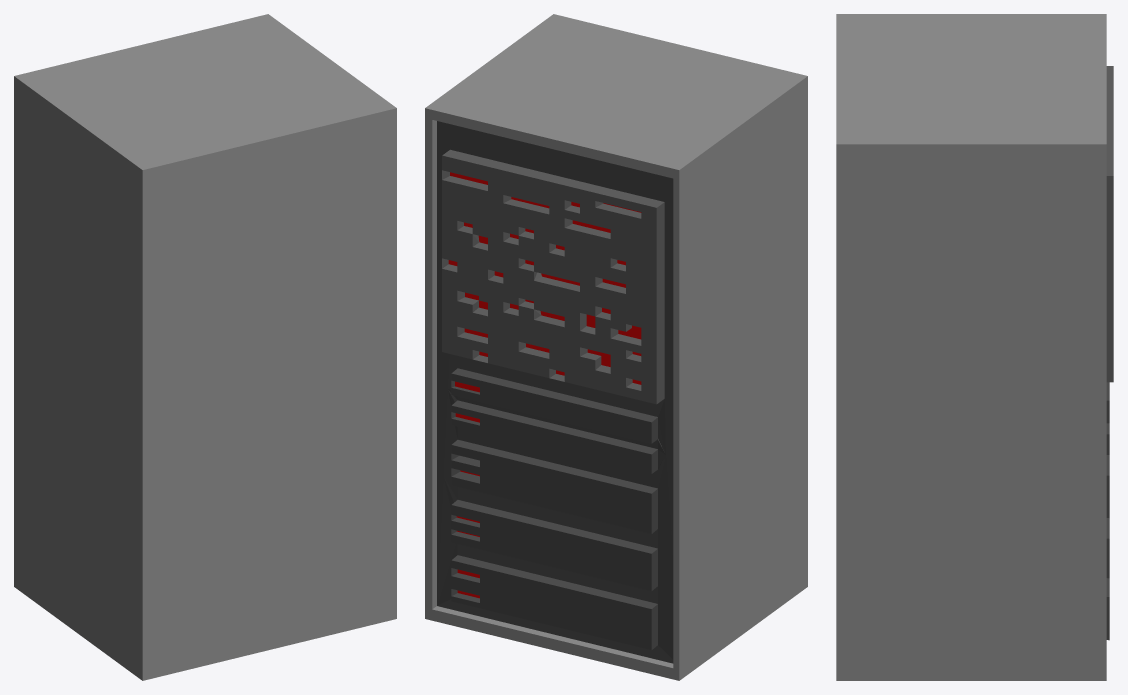
File: testSerw.fbx
The picture shows the model from 3 angles, left to right: view 1: azimuth 30°, elevation 25°; view 2: azimuth 150°, elevation 25°; view 3: azimuth 270°, elevation 25°; orthographic projection. The views are drawn at different scales.
Parts seen in each view (by area): view 1: Cube.004, Cube.023, Cube.013, Cube.001, Cube.012, Cube.014, Cube.003, Cube.021, Cube.009, Cube.008, Cube.015, Cube.005 (+10 smaller); view 2: Cube.004, Cube.023, Cube.012, Cube.001, Cube.013, Cube.014, Cube.003, Cube.021, Cube.009, Cube.008, Cube.016, Cube.005 (+10 smaller); view 3: Cube.015, Cube.001, Cube.005, Cube.012, Cube.022, Cube.004, Cube.018, Cube.003, Cube.020.
Part boxes in pixels (bbox=[...]): Cube.004: bbox=[14, 54, 233, 307]; Cube.023: bbox=[14, 470, 198, 680]; Cube.013: bbox=[14, 221, 251, 387]; Cube.001: bbox=[194, 14, 396, 212]; Cube.012: bbox=[180, 540, 396, 671]; Cube.014: bbox=[14, 294, 269, 463]; Cube.003: bbox=[105, 36, 304, 234]; Cube.021: bbox=[14, 377, 233, 577]; Cube.009: bbox=[145, 387, 251, 535]; Cube.008: bbox=[269, 336, 357, 458]; Cube.015: bbox=[322, 295, 396, 465]; Cube.005: bbox=[305, 221, 396, 343]; Cube.004: bbox=[580, 54, 807, 309]; Cube.023: bbox=[623, 465, 807, 680]; Cube.012: bbox=[425, 477, 656, 671]; Cube.001: bbox=[425, 14, 627, 219]; Cube.013: bbox=[564, 215, 807, 387]; Cube.014: bbox=[465, 294, 807, 463]; Cube.003: bbox=[504, 36, 716, 237]; Cube.021: bbox=[594, 371, 807, 577]; Cube.009: bbox=[566, 396, 676, 535]; Cube.008: bbox=[452, 332, 557, 463]; Cube.016: bbox=[494, 437, 600, 542]; Cube.005: bbox=[425, 221, 509, 333]; Cube.015: bbox=[836, 339, 1113, 529]; Cube.001: bbox=[836, 106, 1113, 235]; Cube.005: bbox=[836, 262, 1113, 373]; Cube.012: bbox=[836, 578, 1109, 680]; Cube.022: bbox=[836, 529, 1109, 598]; Cube.004: bbox=[836, 14, 1113, 105]; Cube.018: bbox=[836, 221, 1113, 288]; Cube.003: bbox=[836, 60, 1113, 139]; Cube.020: bbox=[836, 97, 1113, 144].
Size of the model in its own units: 94.78 by 202 by 106.
